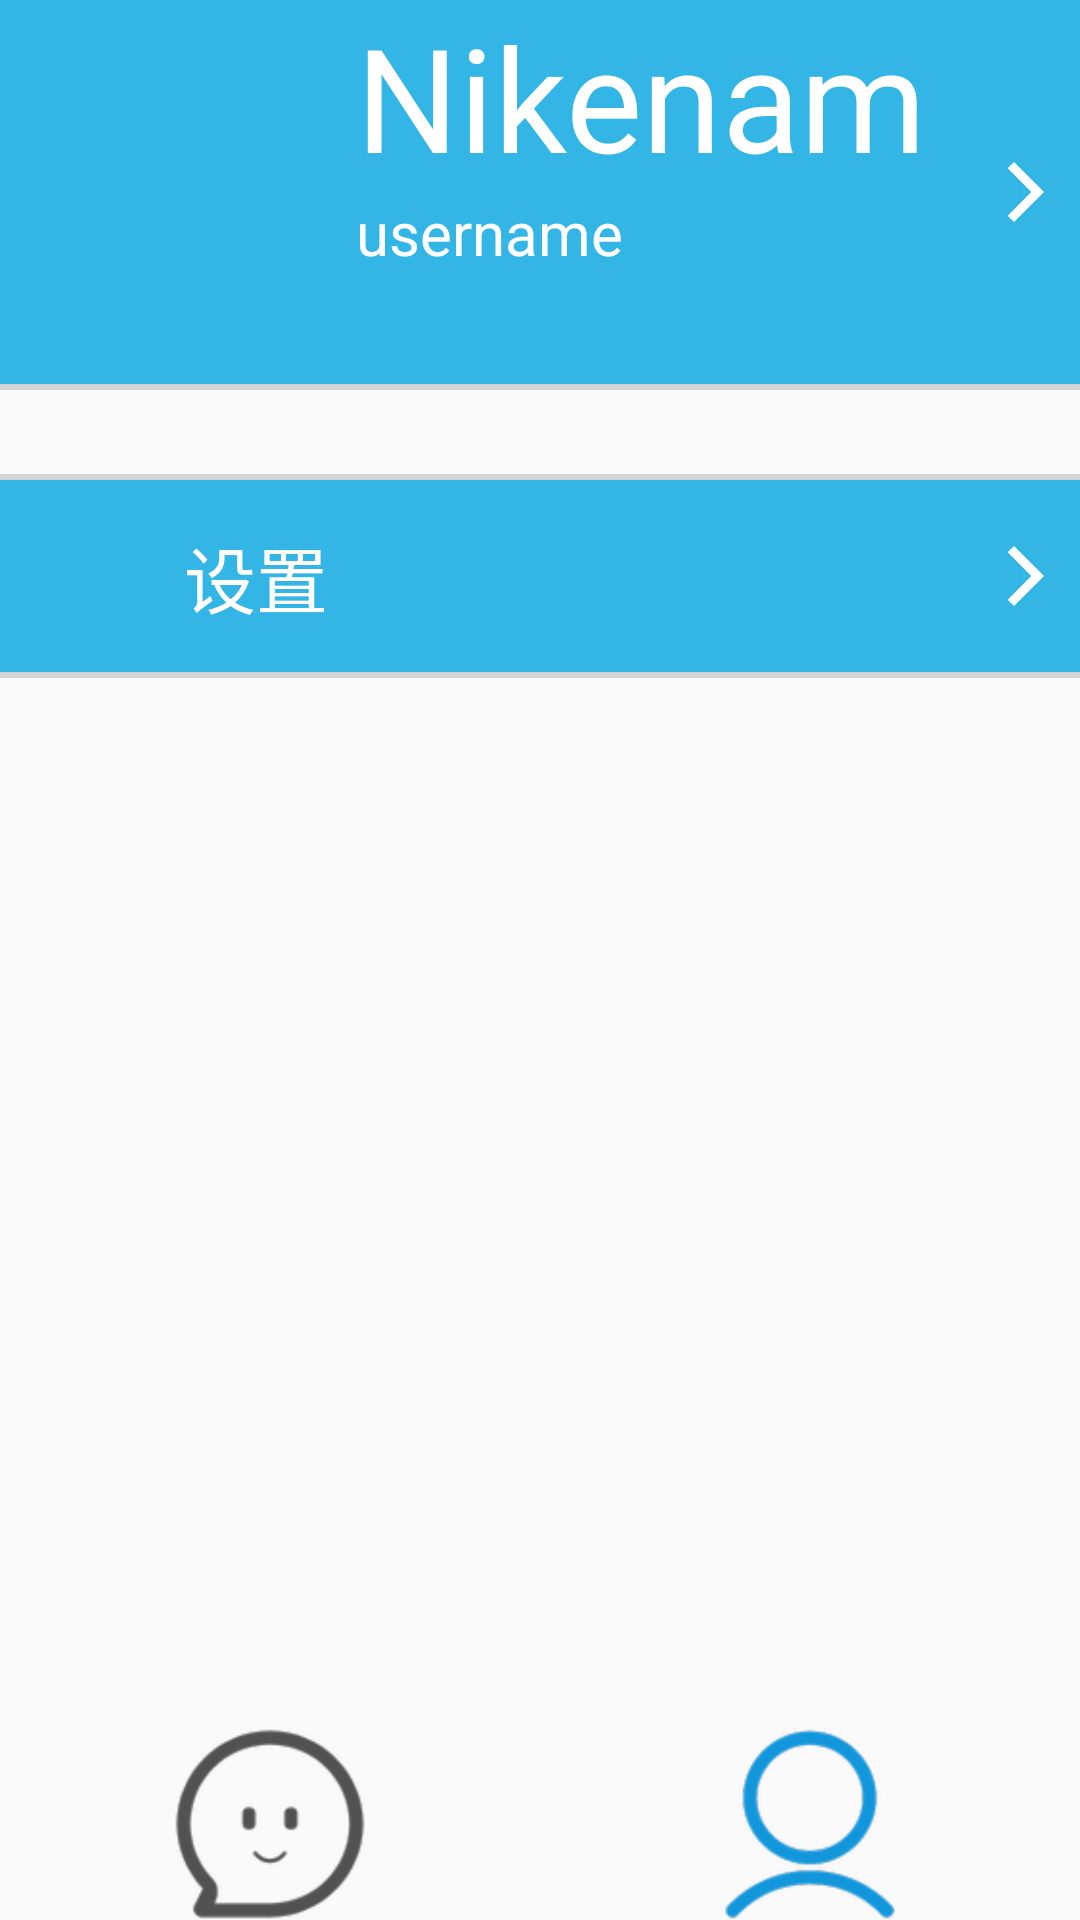

Icons on this 1080 x 1920 Android screen, each with the point to tap as (x,y):
arrow forward: (1026,192), (1026,576)
